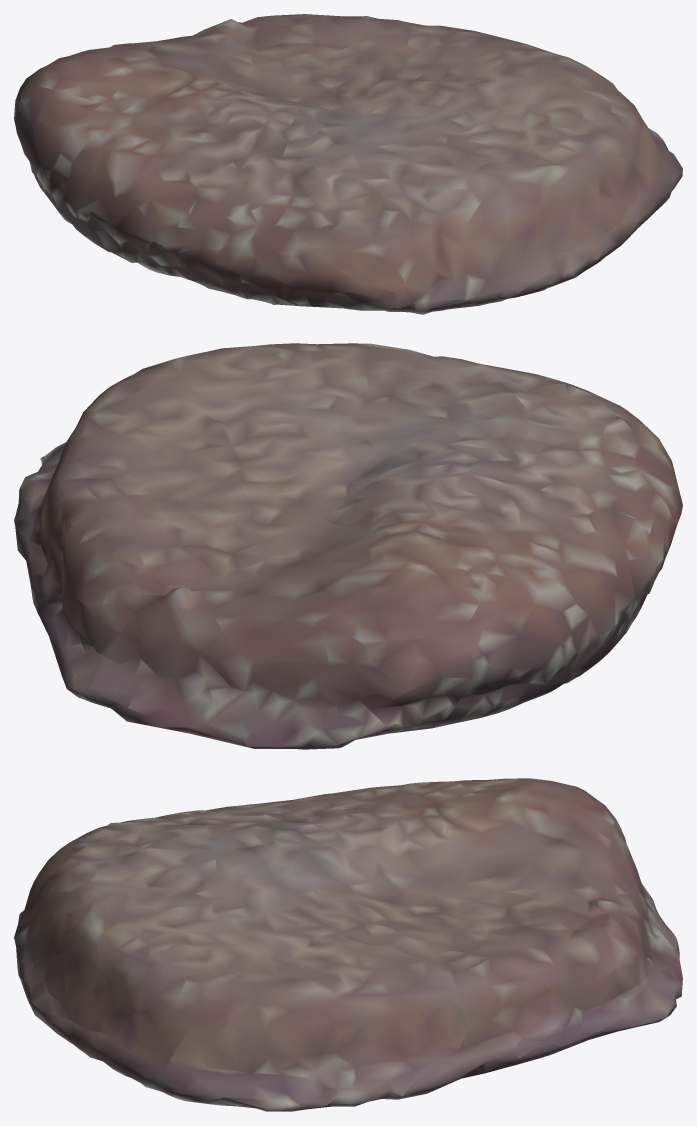
Rendered from 0004_mask_005_sesame_cake.glb.
3 renders of one model, top to bottom at view 1: azimuth 30°, elevation 25°; view 2: azimuth 150°, elevation 25°; view 3: azimuth 270°, elevation 25°, orthographic. The views are drawn at different scales.
Visible parts, largest first — view 1: mask_005_object; view 2: mask_005_object; view 3: mask_005_object.
Part boxes in pixels (<box>): mask_005_object: <box>14,14,682,314</box>; mask_005_object: <box>14,343,682,749</box>; mask_005_object: <box>14,778,682,1111</box>.
Size of the model in its own units: 0.3977 by 0.0811 by 0.4127.
